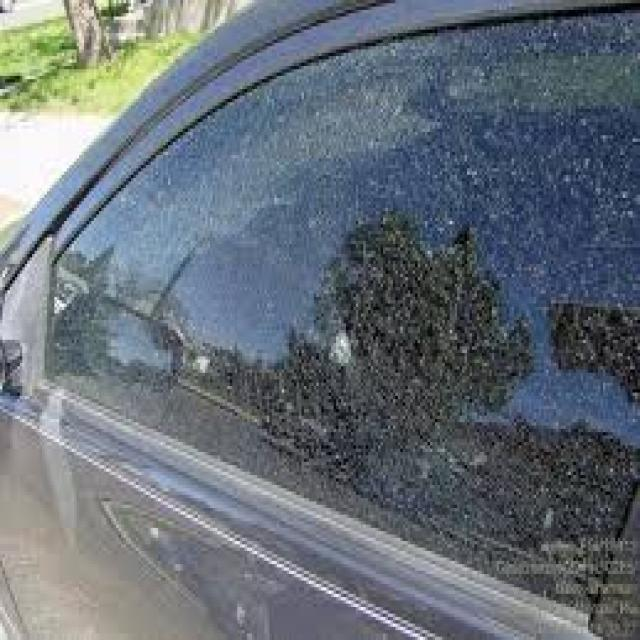damaged-window: (35, 6, 640, 617)
